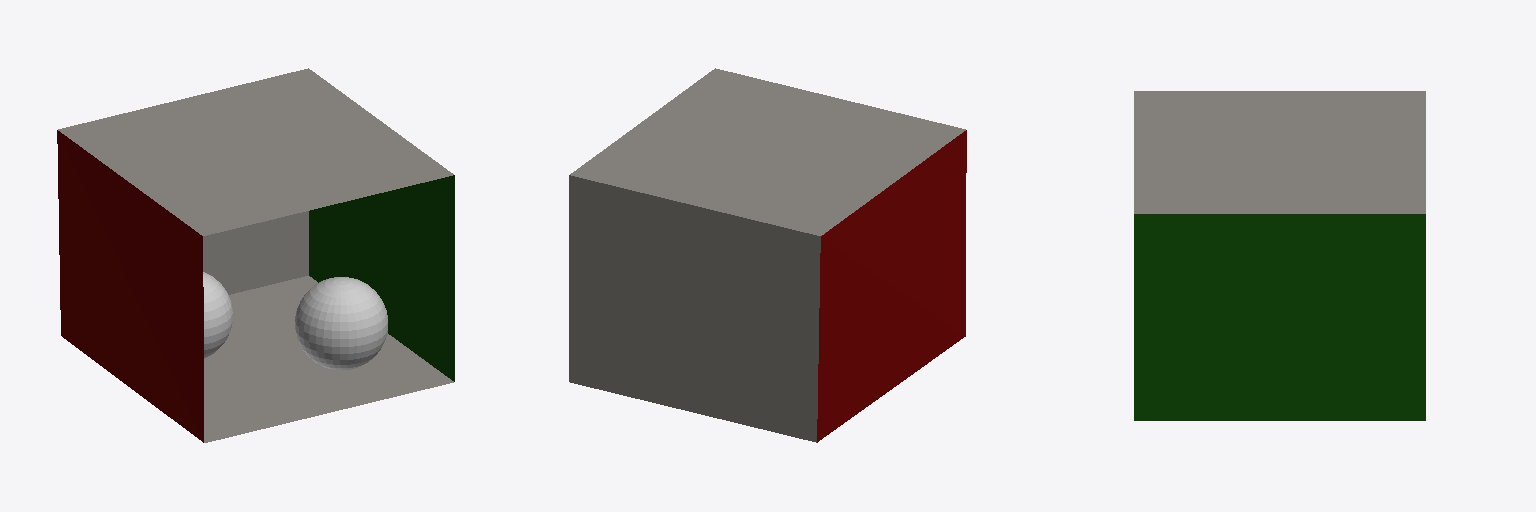
Rendered from cornell.obj.
3 views of the same model, side by side, from view 1: azimuth 30°, elevation 25°; view 2: azimuth 150°, elevation 25°; view 3: azimuth 270°, elevation 25° (orthographic).
Visible parts, largest first — view 1: ceiling, leftWall, floor, rightWall, rightSphere, backWall, leftSphere; view 2: backWall, ceiling, leftWall; view 3: rightWall, ceiling.
Part boxes in pixels (x1,y1,x2,y2): ceiling: (58,68,453,235); leftWall: (57,130,203,442); floor: (204,276,453,442); rightWall: (309,175,454,381); rightSphere: (295,277,387,369); backWall: (203,211,308,294); leftSphere: (203,272,232,358); backWall: (569,175,820,442); ceiling: (570,68,965,235); leftWall: (817,130,966,442); rightWall: (1134,214,1425,420); ceiling: (1134,91,1425,213).
Size of the model in its own units: 2.02 by 1.59 by 2.03.